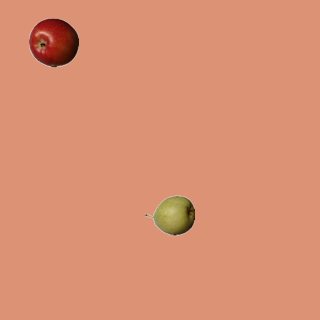Apple Braeburn: (28, 17, 78, 67)
Pear: (144, 190, 194, 240)
